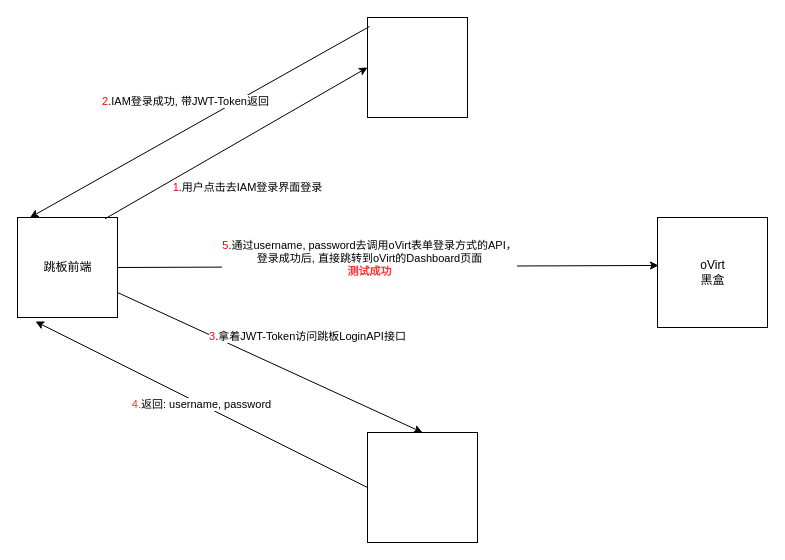
Some shapes in this 785 by 560 pixel diagram are drawn without their labels. The centre of each missing label's shape, as x and y in pixels:
"IAM" belongs at [417,67].
"跳板后端" belongs at [422,487].
